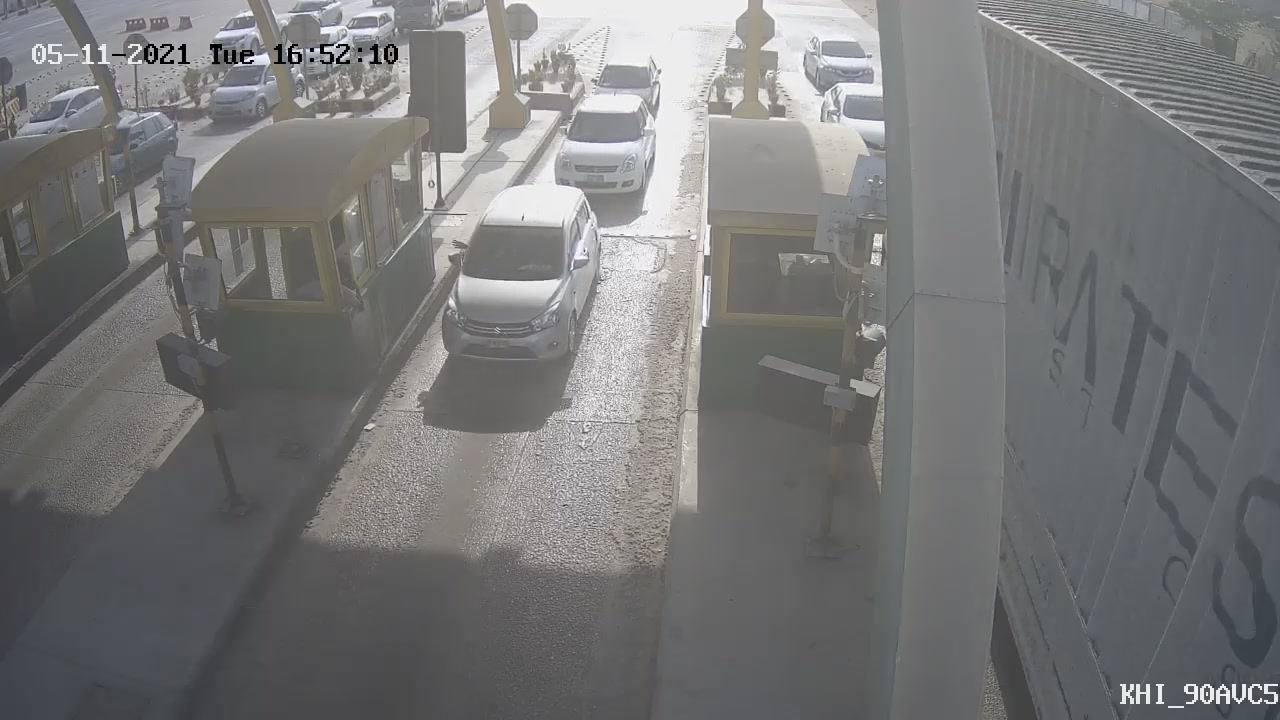F1: (414, 165, 625, 390), (540, 83, 672, 209)
